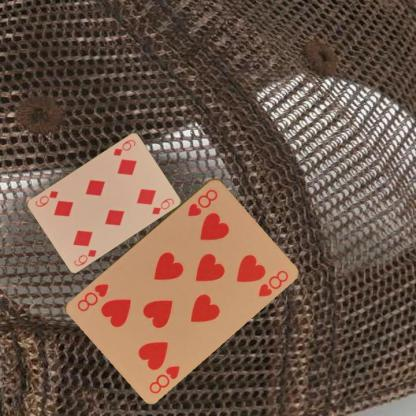6d: (71, 247, 98, 267), (111, 137, 137, 157)
8h: (146, 362, 182, 395), (185, 186, 219, 218)
